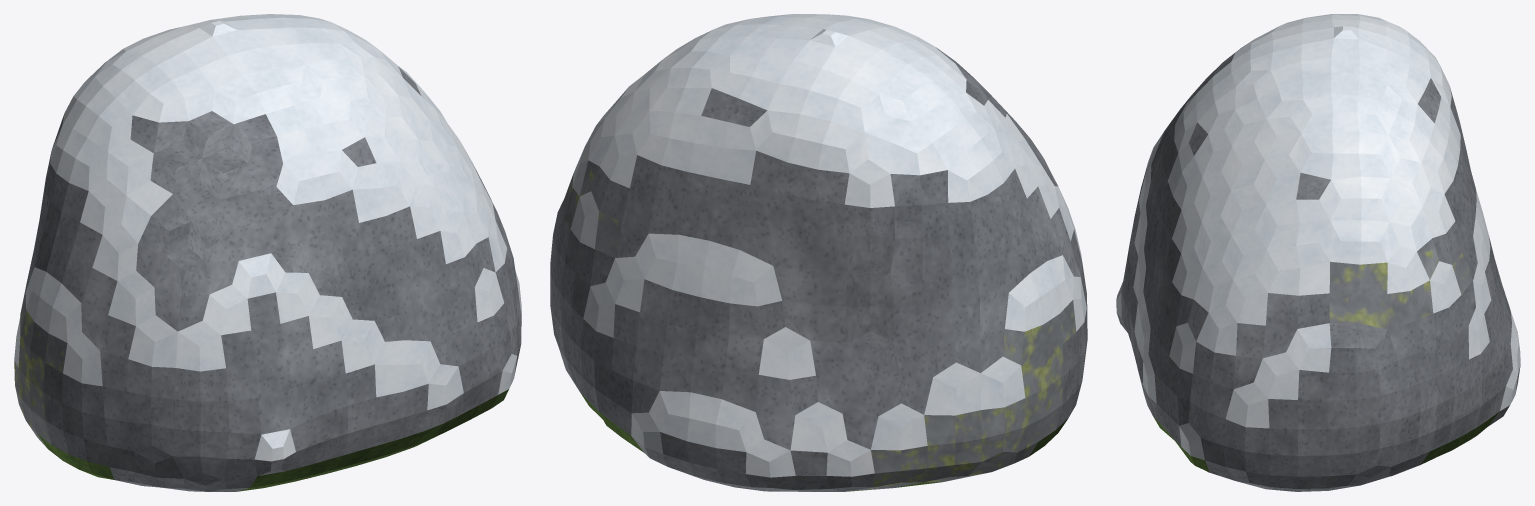
Rendered from rock_medium_snow.glb.
3 renders of one model, left to right at view 1: azimuth 30°, elevation 25°; view 2: azimuth 150°, elevation 25°; view 3: azimuth 270°, elevation 25°, orthographic. The views are drawn at different scales.
Visible parts, largest first — view 1: wilds_rock_medium_snow; view 2: wilds_rock_medium_snow; view 3: wilds_rock_medium_snow.
Part boxes in pixels (x1,y1,x2,y2): wilds_rock_medium_snow: [14, 14, 521, 491]; wilds_rock_medium_snow: [550, 14, 1087, 491]; wilds_rock_medium_snow: [1116, 14, 1520, 491].
Bounding box in the file's own units: 0.9112 × 0.7575 × 0.7394.
1 material, 1 textured.
